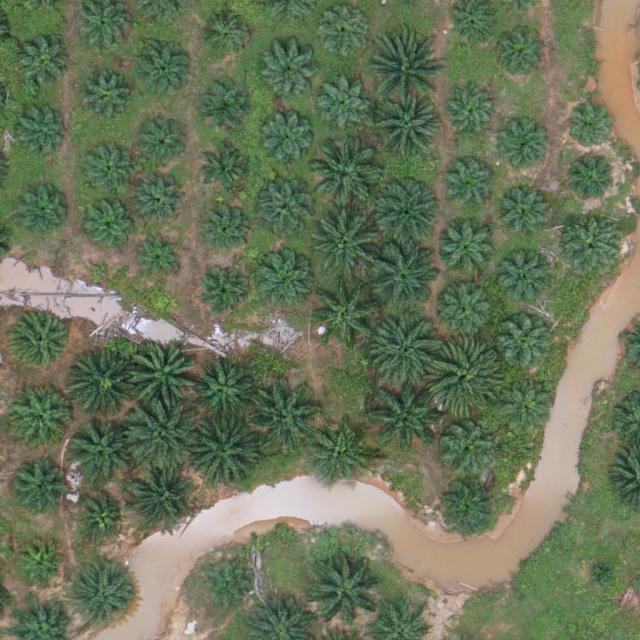Healthy: (187, 417, 258, 488), (370, 237, 441, 308), (368, 380, 438, 451), (310, 553, 381, 623), (250, 380, 320, 451), (130, 401, 200, 472), (430, 341, 500, 412), (372, 37, 443, 107), (368, 176, 438, 247), (375, 317, 445, 388), (313, 210, 383, 281), (311, 140, 381, 211), (129, 341, 199, 412), (371, 95, 441, 165), (313, 279, 383, 349), (67, 352, 137, 422), (67, 420, 130, 483), (560, 211, 623, 274), (10, 312, 73, 375), (437, 475, 499, 538), (72, 567, 135, 629), (12, 384, 74, 447), (439, 218, 502, 280), (493, 249, 555, 312), (254, 183, 316, 246), (192, 358, 254, 421), (310, 426, 372, 488), (129, 467, 191, 529), (437, 278, 499, 340), (253, 249, 315, 311), (439, 418, 494, 473), (199, 559, 254, 614), (10, 458, 65, 513), (491, 26, 546, 81), (442, 86, 497, 141), (500, 377, 555, 432), (498, 319, 553, 374), (443, 158, 498, 213), (495, 181, 550, 236), (261, 49, 316, 104), (261, 112, 316, 167), (16, 37, 71, 92), (11, 101, 66, 156), (15, 185, 70, 240), (84, 196, 139, 251), (75, 68, 130, 123), (136, 40, 191, 95), (135, 171, 190, 226), (198, 267, 253, 322), (199, 6, 254, 61), (318, 7, 373, 62), (498, 122, 552, 177), (565, 151, 619, 206), (82, 143, 136, 198), (135, 118, 189, 173), (197, 198, 251, 253), (202, 138, 256, 193), (197, 77, 251, 132), (317, 78, 371, 133)
Small: (136, 231, 183, 279), (17, 539, 64, 587), (77, 493, 124, 540), (567, 105, 614, 152), (585, 557, 616, 589)
